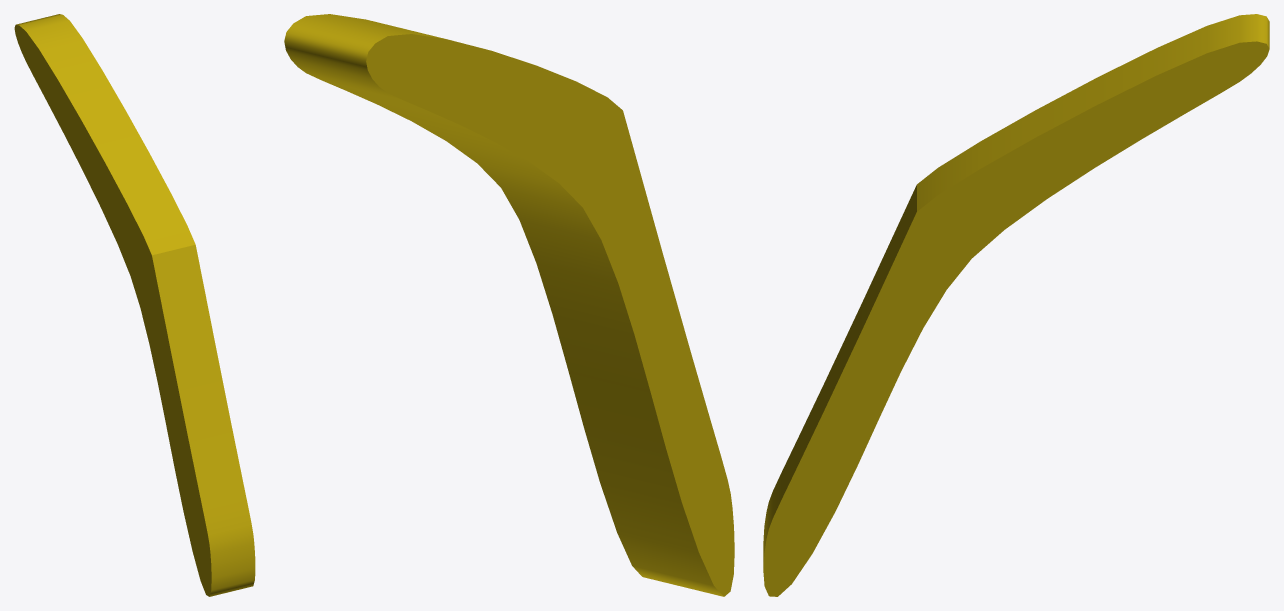
File: Arm1.obj
The picture shows the model from 3 angles, left to right: view 1: azimuth 30°, elevation 25°; view 2: azimuth 150°, elevation 25°; view 3: azimuth 270°, elevation 25°; orthographic projection. The views are drawn at different scales.
Visible parts, largest first — view 1: Arm1; view 2: Arm1; view 3: Arm1.
Part boxes in pixels (<box>): Arm1: <box>14,14,255,596</box>; Arm1: <box>284,14,734,596</box>; Arm1: <box>763,14,1269,596</box>.
Bounding box in the file's own units: 1 × 9.44 × 7.8.
